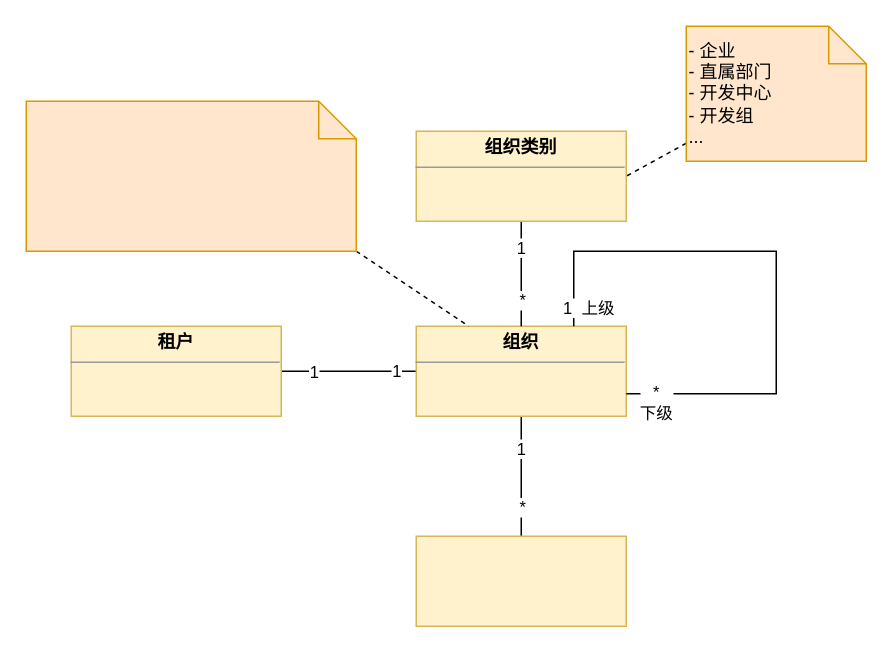
Some shapes in this 893 by 653 pixel diagram are drawn without their labels. The shapes that lost their labels are listed below. From the top down, each one's centre as x and y in pixels, then its label:
At (x=190, y=175): "{ - 开发组的上级只能是开发中心 - 开发中心和直属部门的上级只能是企业 - 企业没有上级 - 开发组和直属部门没有下级 }".
At (x=520, y=580): "员工".
